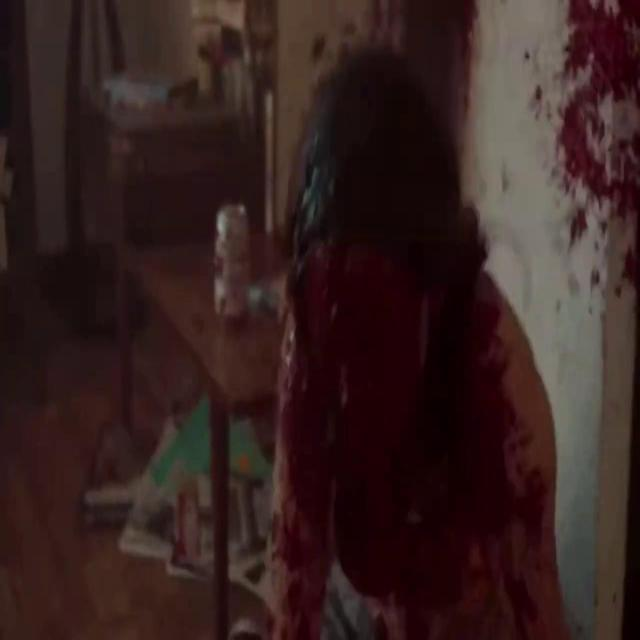flood: (222, 158, 538, 607), (530, 0, 639, 232)
